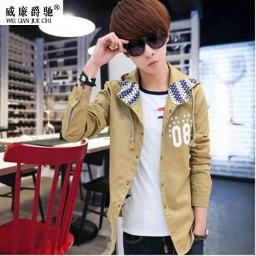face: (108, 2, 172, 75)
